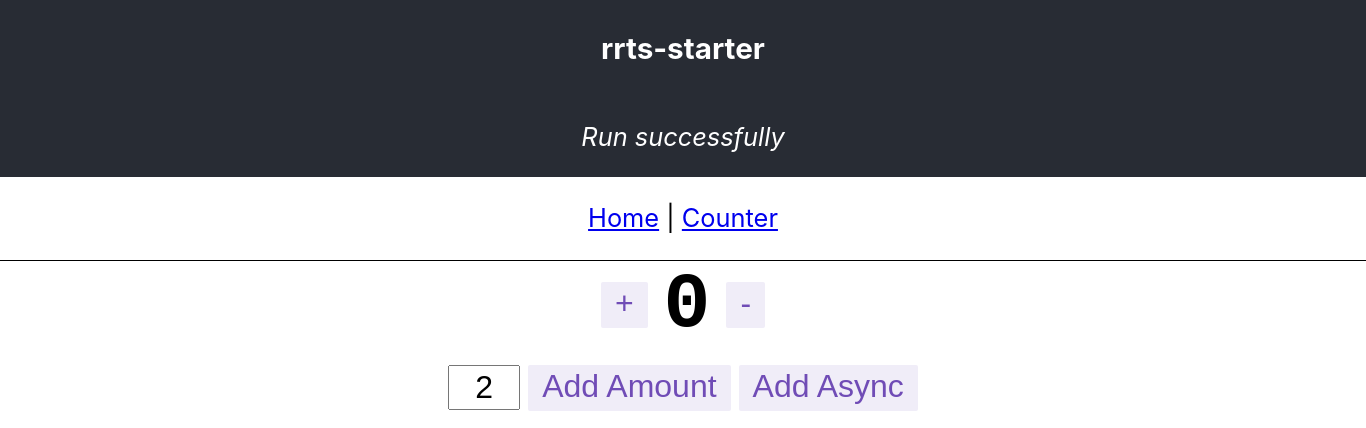
Landing Page spec › should increment current value on "Add Amount" click
The width and height of the screenshot is (1366, 428).
Expected: the heading named "Current Value" reads "0", [664, 261, 711, 349]
What coordinates should you click on to do the following:
click the button "Add Amount"
I would click on:
 (629, 388)
Its box is [528, 365, 730, 411].
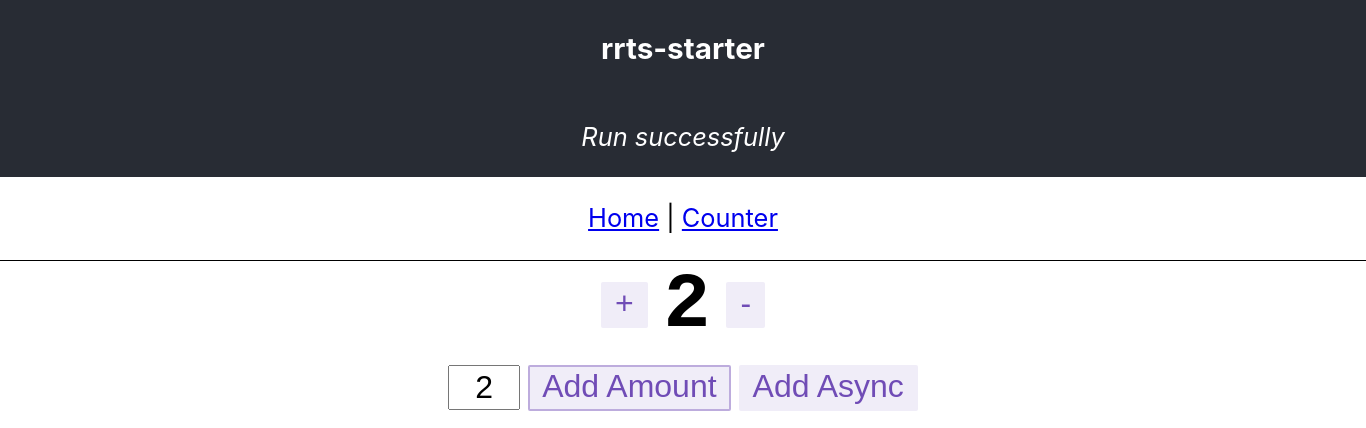
Now the heading named "Current Value" reads "2", box [664, 261, 711, 349]
What coordinates should you click on to do the following:
click the button "Add Async"
I would click on:
 (829, 388)
Its box is [739, 365, 918, 411].
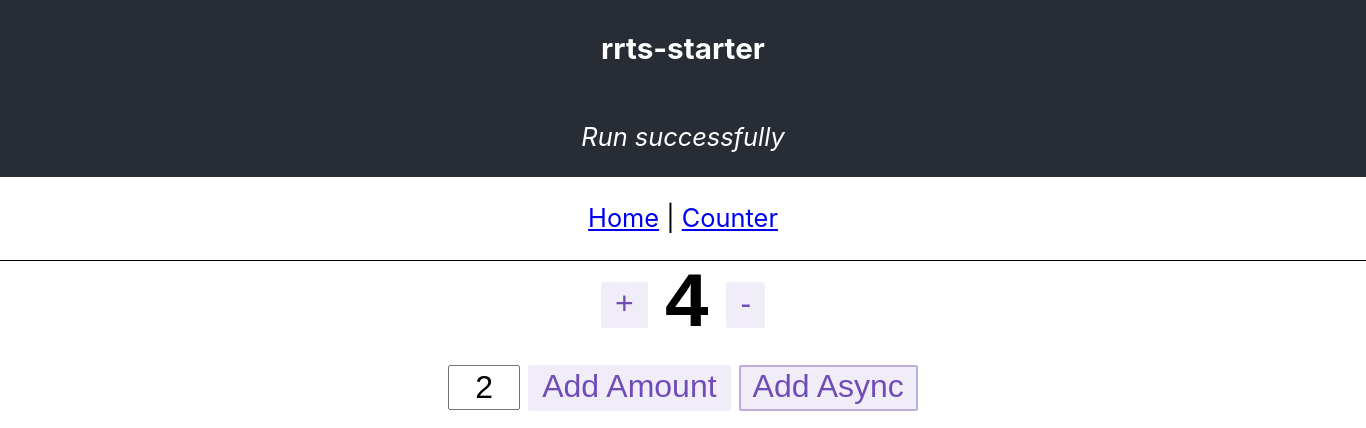
Now the heading named "Current Value" reads "4", box [664, 261, 711, 349]
